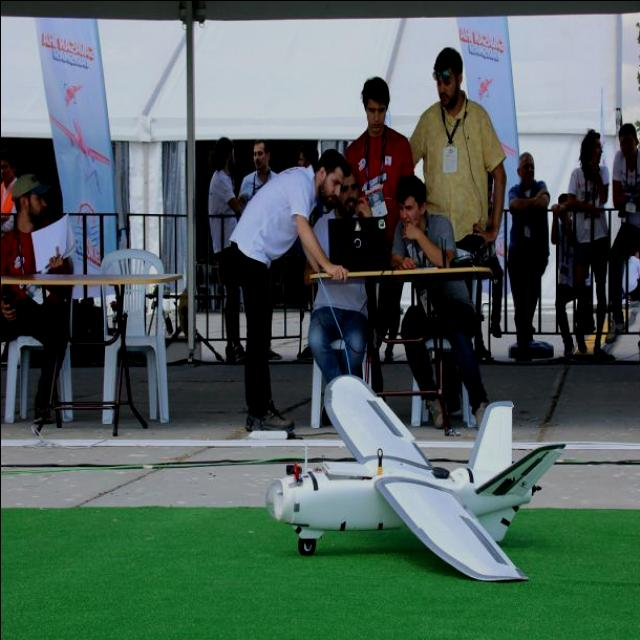plane: (264, 372, 566, 582)
